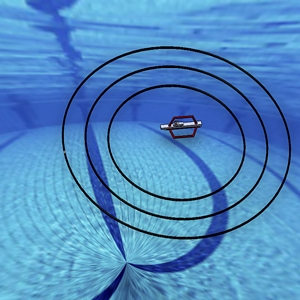circle: (47, 32, 300, 250)
submarine: (158, 108, 208, 153)
